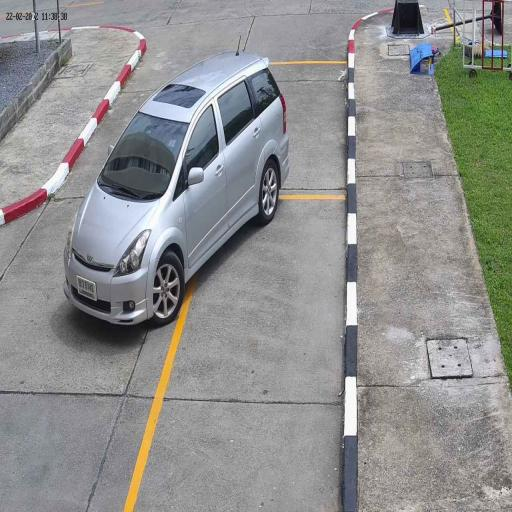car: (62, 48, 292, 328)
